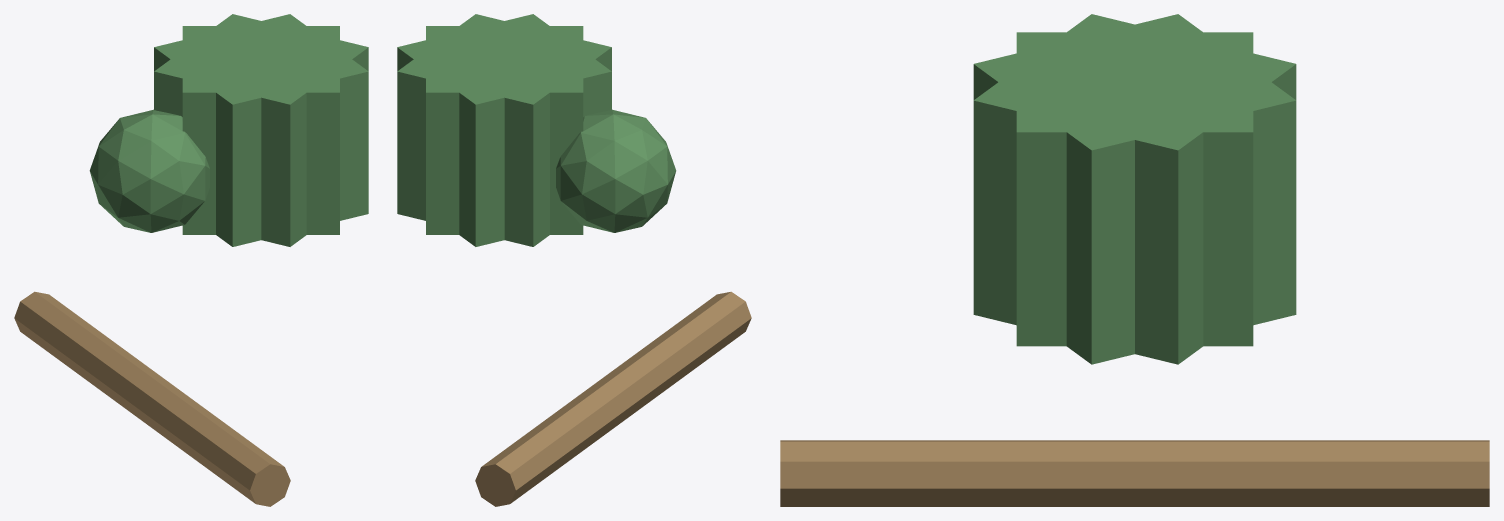
Rendered from env_tree_palm.glb.
3 renders of one model, left to right at view 1: azimuth 30°, elevation 25°; view 2: azimuth 150°, elevation 25°; view 3: azimuth 270°, elevation 25°, orthographic. The views are drawn at different scales.
Parts seen in each view (by area): view 1: world; view 2: world; view 3: world.
Boxes of the visible parts, bbox=[...] form: world: bbox=[14, 14, 368, 506]; world: bbox=[397, 14, 751, 506]; world: bbox=[780, 14, 1489, 506].
Size of the model in its own units: 1.88 by 2.35 by 3.
